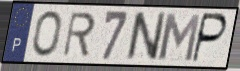7: (102, 9, 130, 62)
M: (157, 12, 202, 63)
N: (124, 10, 168, 63)
O: (31, 9, 63, 59)
P: (190, 11, 229, 65)
R: (61, 11, 98, 59)
